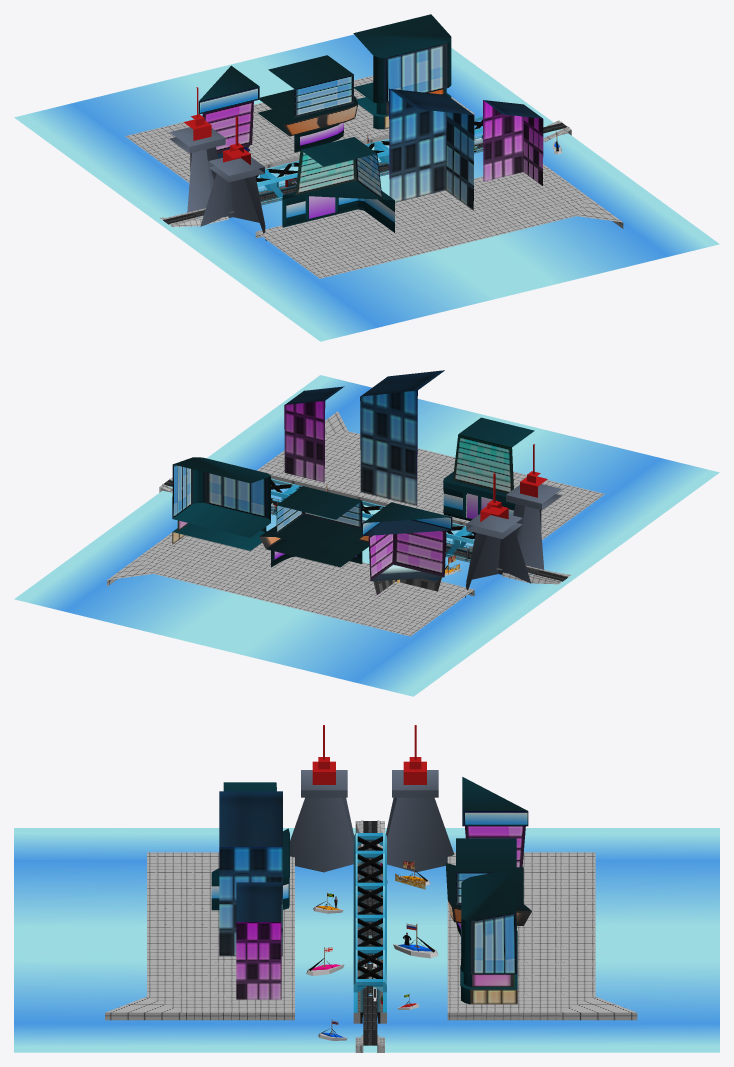
Rendered from subwaysurferstest91.glb.
3 renders of one model, top to bottom at view 1: azimuth 30°, elevation 25°; view 2: azimuth 150°, elevation 25°; view 3: azimuth 270°, elevation 25°, orthographic. The views are drawn at different scales.
Visible parts, largest first — view 1: Water, tile.024, building.003, building.008, building, building.004, tile.001, building.007, lighttower.002, building.005, lighttower.001; view 2: Water, tile.001, building, tile.024, building.003, building.004, building.005, building.008, lighttower.001, building.007, lighttower.002; view 3: Water, tile.024, tile.001, building, building.003, lighttower.002, lighttower.001, building.007, building.004, building.005, building.008, Overpass (+5 smaller).
Part boxes in pixels (bbox=[...]): Water: bbox=[14, 34, 719, 341]; tile.024: bbox=[255, 164, 623, 278]; building.003: bbox=[389, 88, 474, 210]; building.008: bbox=[282, 137, 394, 232]; building: bbox=[353, 14, 451, 129]; building.004: bbox=[257, 55, 358, 152]; tile.001: bbox=[125, 76, 474, 183]; building.007: bbox=[483, 100, 543, 185]; lighttower.002: bbox=[200, 116, 266, 240]; building.005: bbox=[198, 65, 259, 158]; lighttower.001: bbox=[169, 87, 225, 212]; Water: bbox=[14, 375, 719, 696]; tile.001: bbox=[107, 532, 474, 636]; building: bbox=[172, 457, 270, 550]; tile.024: bbox=[257, 411, 604, 539]; building.003: bbox=[360, 370, 444, 505]; building.004: bbox=[259, 486, 369, 567]; building.005: bbox=[362, 502, 452, 594]; building.008: bbox=[443, 417, 534, 520]; lighttower.001: bbox=[465, 473, 530, 597]; building.007: bbox=[284, 386, 344, 482]; lighttower.002: bbox=[506, 444, 561, 569]; Water: bbox=[14, 828, 719, 1052]; tile.024: bbox=[105, 852, 294, 1020]; tile.001: bbox=[447, 852, 637, 1020]; building: bbox=[460, 868, 517, 1004]; building.003: bbox=[219, 791, 282, 956]; lighttower.002: bbox=[290, 725, 353, 872]; lighttower.001: bbox=[386, 725, 454, 872]; building.007: bbox=[236, 882, 281, 999]; building.004: bbox=[445, 838, 531, 935]; building.005: bbox=[462, 777, 528, 867]; building.008: bbox=[211, 782, 289, 910]; Overpass: bbox=[353, 950, 386, 1012].
Size of the model in its own units: 562 by 169 by 744.
Materials: 4 (4 with a texture image).
